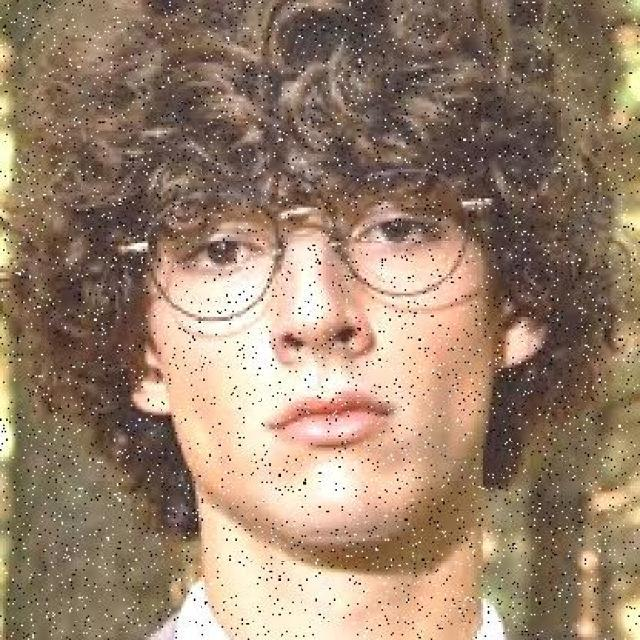mask: (123, 163, 476, 317)
